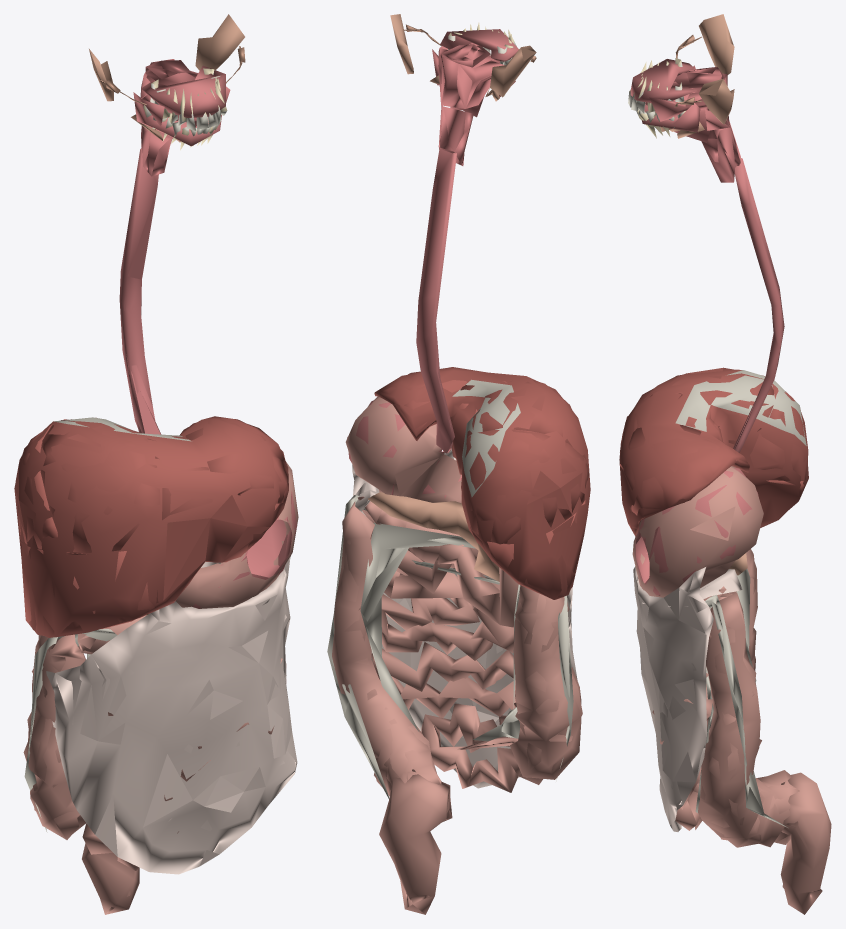
Rendered from adult_male.digestive.LOD4.glb.
3 renders of one model, left to right at view 1: azimuth 30°, elevation 25°; view 2: azimuth 150°, elevation 25°; view 3: azimuth 270°, elevation 25°, orthographic. The views are drawn at different scales.
Visible parts, largest first — view 1: ADULT.MALE.DIGESTIVE.GREATER_OMENTUM, ADULT.MALE.DIGESTIVE.LIVER, ADULT.MALE.DIGESTIVE.ASCENDING_COLON, ADULT.MALE.DIGESTIVE.OESOPHAGUS, ADULT.MALE.DIGESTIVE.POSTERIOR_MEDIAL_SEGMENT_OF_LIVER_VIII, ADULT.MALE.DIGESTIVE.STOMACH, ADULT.MALE.DIGESTIVE.GINGIVA, ADULT.MALE.DIGESTIVE.RECTUM, ADULT.MALE.DIGESTIVE.LEFT_POSTERIOR_LATERAL_SEGMENT_OF_LIVER, ADULT.MALE.DIGESTIVE.MUCOSA_OF_STOMACH, ADULT.MALE.DIGESTIVE.PAROTID_GLAND.L, ADULT.MALE.DIGESTIVE.MESOCOLIC_TAENIA (+8 smaller); view 2: ADULT.MALE.DIGESTIVE.LIVER, ADULT.MALE.DIGESTIVE.JEJUNUM_AND_ILEUM, ADULT.MALE.DIGESTIVE.DESCENDING_AND_SIGMOID_COLON, ADULT.MALE.DIGESTIVE.ASCENDING_COLON, ADULT.MALE.DIGESTIVE.STOMACH, ADULT.MALE.DIGESTIVE.RECTUM, ADULT.MALE.DIGESTIVE.OESOPHAGUS, ADULT.MALE.DIGESTIVE.POSTERIOR_LATERAL_SEGMENT_OF_LIVER_VII, ADULT.MALE.DIGESTIVE.FREE_TAENIA, ADULT.MALE.DIGESTIVE.GREATER_OMENTUM, ADULT.MALE.DIGESTIVE.MESOCOLIC_TAENIA, ADULT.MALE.DIGESTIVE.PANCREAS (+13 smaller); view 3: ADULT.MALE.DIGESTIVE.LIVER, ADULT.MALE.DIGESTIVE.GREATER_OMENTUM, ADULT.MALE.DIGESTIVE.DESCENDING_AND_SIGMOID_COLON, ADULT.MALE.DIGESTIVE.STOMACH, ADULT.MALE.DIGESTIVE.RECTUM, ADULT.MALE.DIGESTIVE.OESOPHAGUS, ADULT.MALE.DIGESTIVE.LEFT_POSTERIOR_LATERAL_SEGMENT_OF_LIVER, ADULT.MALE.DIGESTIVE.GINGIVA, ADULT.MALE.DIGESTIVE.MESOCOLIC_TAENIA, ADULT.MALE.DIGESTIVE.MUCOSA_OF_STOMACH, ADULT.MALE.DIGESTIVE.POSTERIOR_LATERAL_SEGMENT_OF_LIVER_VII, ADULT.MALE.DIGESTIVE.LARYNGOPHARYNX (+9 smaller).
Boxes of the visible parts, bbox=[...] form: ADULT.MALE.DIGESTIVE.GREATER_OMENTUM: bbox=[46, 557, 297, 874]; ADULT.MALE.DIGESTIVE.LIVER: bbox=[14, 416, 288, 637]; ADULT.MALE.DIGESTIVE.ASCENDING_COLON: bbox=[23, 634, 85, 839]; ADULT.MALE.DIGESTIVE.OESOPHAGUS: bbox=[119, 148, 161, 434]; ADULT.MALE.DIGESTIVE.POSTERIOR_MEDIAL_SEGMENT_OF_LIVER_VIII: bbox=[40, 417, 160, 552]; ADULT.MALE.DIGESTIVE.STOMACH: bbox=[175, 461, 298, 608]; ADULT.MALE.DIGESTIVE.GINGIVA: bbox=[133, 65, 225, 146]; ADULT.MALE.DIGESTIVE.RECTUM: bbox=[82, 843, 139, 914]; ADULT.MALE.DIGESTIVE.LEFT_POSTERIOR_LATERAL_SEGMENT_OF_LIVER: bbox=[185, 418, 288, 503]; ADULT.MALE.DIGESTIVE.MUCOSA_OF_STOMACH: bbox=[192, 491, 296, 608]; ADULT.MALE.DIGESTIVE.PAROTID_GLAND.L: bbox=[195, 14, 244, 70]; ADULT.MALE.DIGESTIVE.MESOCOLIC_TAENIA: bbox=[24, 628, 117, 832]; ADULT.MALE.DIGESTIVE.LIVER: bbox=[374, 367, 590, 599]; ADULT.MALE.DIGESTIVE.JEJUNUM_AND_ILEUM: bbox=[371, 550, 542, 792]; ADULT.MALE.DIGESTIVE.DESCENDING_AND_SIGMOID_COLON: bbox=[332, 501, 452, 821]; ADULT.MALE.DIGESTIVE.ASCENDING_COLON: bbox=[510, 585, 582, 779]; ADULT.MALE.DIGESTIVE.STOMACH: bbox=[345, 396, 461, 503]; ADULT.MALE.DIGESTIVE.RECTUM: bbox=[379, 769, 450, 914]; ADULT.MALE.DIGESTIVE.OESOPHAGUS: bbox=[416, 148, 456, 453]; ADULT.MALE.DIGESTIVE.POSTERIOR_LATERAL_SEGMENT_OF_LIVER_VII: bbox=[461, 429, 588, 544]; ADULT.MALE.DIGESTIVE.FREE_TAENIA: bbox=[360, 522, 520, 731]; ADULT.MALE.DIGESTIVE.GREATER_OMENTUM: bbox=[352, 464, 577, 788]; ADULT.MALE.DIGESTIVE.MESOCOLIC_TAENIA: bbox=[327, 495, 573, 799]; ADULT.MALE.DIGESTIVE.PANCREAS: bbox=[368, 492, 499, 581]; ADULT.MALE.DIGESTIVE.LIVER: bbox=[619, 369, 808, 536]; ADULT.MALE.DIGESTIVE.GREATER_OMENTUM: bbox=[633, 566, 713, 831]; ADULT.MALE.DIGESTIVE.DESCENDING_AND_SIGMOID_COLON: bbox=[698, 593, 799, 847]; ADULT.MALE.DIGESTIVE.STOMACH: bbox=[632, 466, 763, 597]; ADULT.MALE.DIGESTIVE.RECTUM: bbox=[780, 772, 831, 914]; ADULT.MALE.DIGESTIVE.OESOPHAGUS: bbox=[733, 158, 784, 452]; ADULT.MALE.DIGESTIVE.LEFT_POSTERIOR_LATERAL_SEGMENT_OF_LIVER: bbox=[620, 425, 749, 519]; ADULT.MALE.DIGESTIVE.GINGIVA: bbox=[630, 59, 700, 132]; ADULT.MALE.DIGESTIVE.MESOCOLIC_TAENIA: bbox=[705, 595, 787, 827]; ADULT.MALE.DIGESTIVE.MUCOSA_OF_STOMACH: bbox=[634, 467, 758, 595]; ADULT.MALE.DIGESTIVE.POSTERIOR_LATERAL_SEGMENT_OF_LIVER_VII: bbox=[746, 384, 808, 480]; ADULT.MALE.DIGESTIVE.LARYNGOPHARYNX: bbox=[701, 121, 740, 182].
Bounding box in the file's own units: 0.2293 × 0.7715 × 0.1716.
